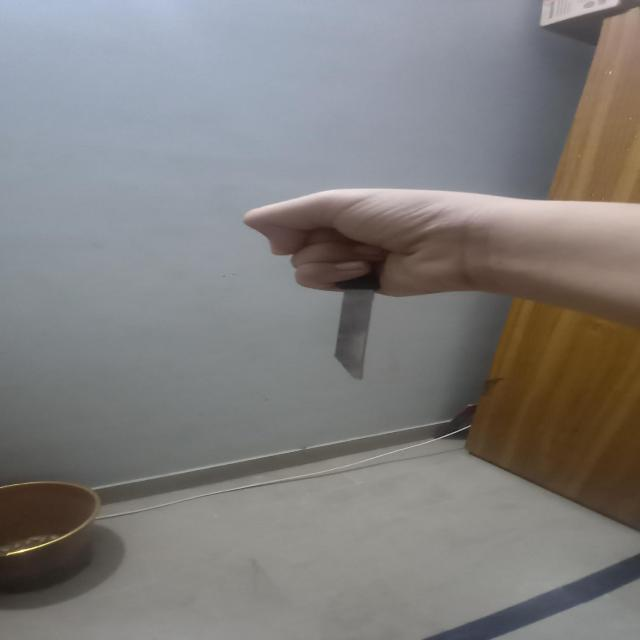Knife: (332, 252, 386, 378)
Person: (243, 188, 640, 331)
